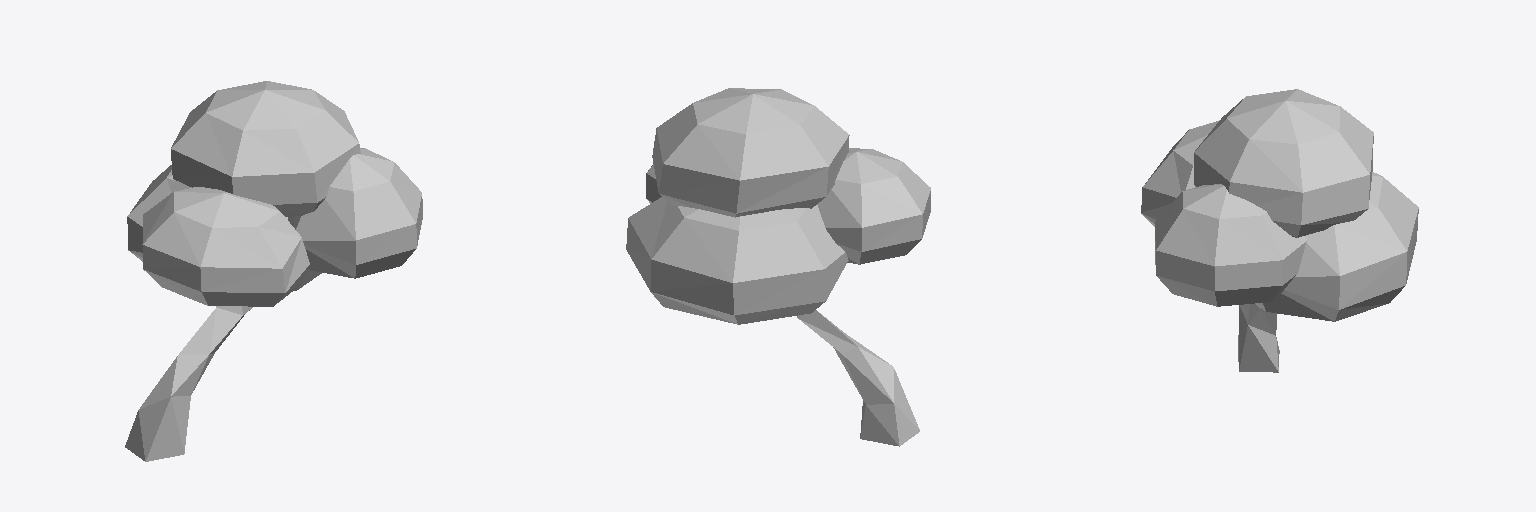
File: tree_B.obj
3 renders of one model, left to right at view 1: azimuth 30°, elevation 25°; view 2: azimuth 150°, elevation 25°; view 3: azimuth 270°, elevation 25°, orthographic.
Parts seen in each view (by area): view 1: tree_B_Cube.14213; view 2: tree_B_Cube.14213; view 3: tree_B_Cube.14213.
Boxes of the visible parts, x1=… form: tree_B_Cube.14213: x1=125, y1=81, x2=422, y2=461; tree_B_Cube.14213: x1=626, y1=88, x2=930, y2=446; tree_B_Cube.14213: x1=1141, y1=89, x2=1418, y2=372.
Size of the model in its own units: 0.9491 by 1.09 by 0.8506.